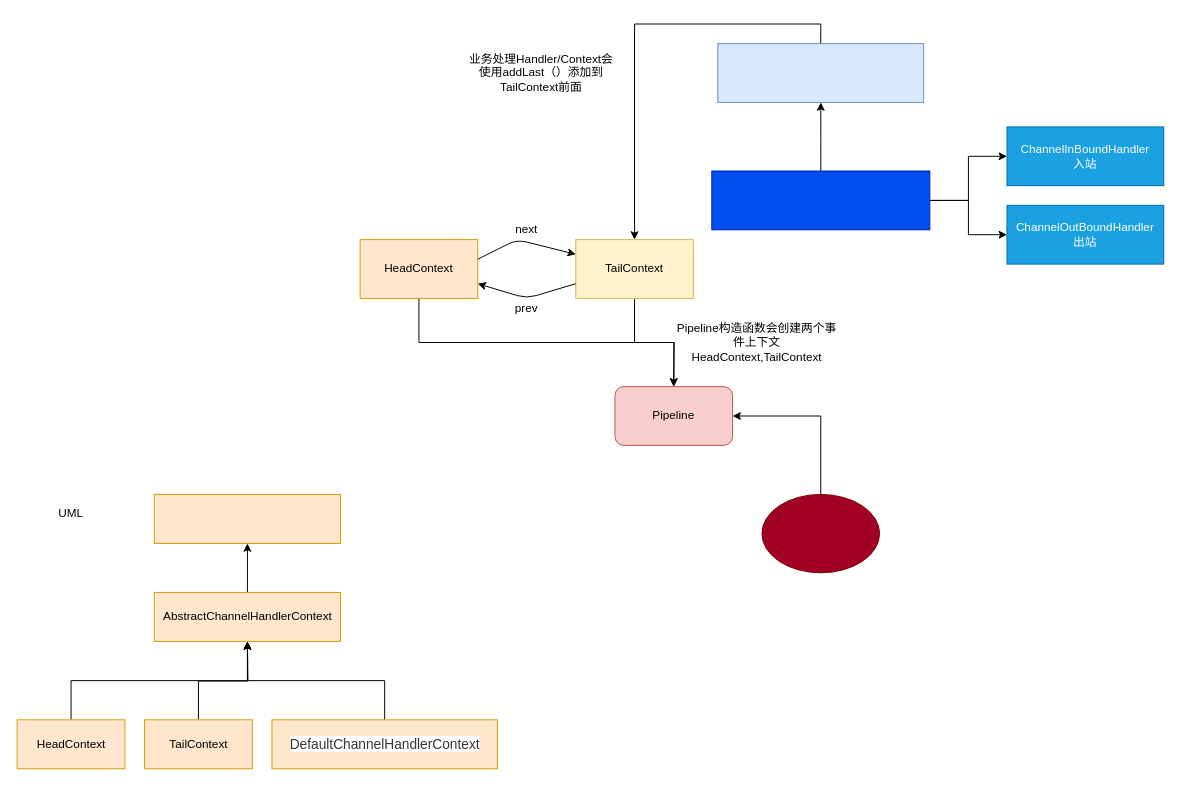
This 1181x786 diagram has some shape labels left out. Each missing label, with the box of its shape:
ChannelHandlerContext: (153, 493, 341, 543)
channel创建时，会创建默认的Pipeline: (761, 493, 880, 573)
DefaultChannelHandlerContext 构造函数中会传入Pipeline: (717, 43, 924, 102)
handler处理业务，内置在 DefaultChannelHandlerContext中: (711, 170, 930, 230)
